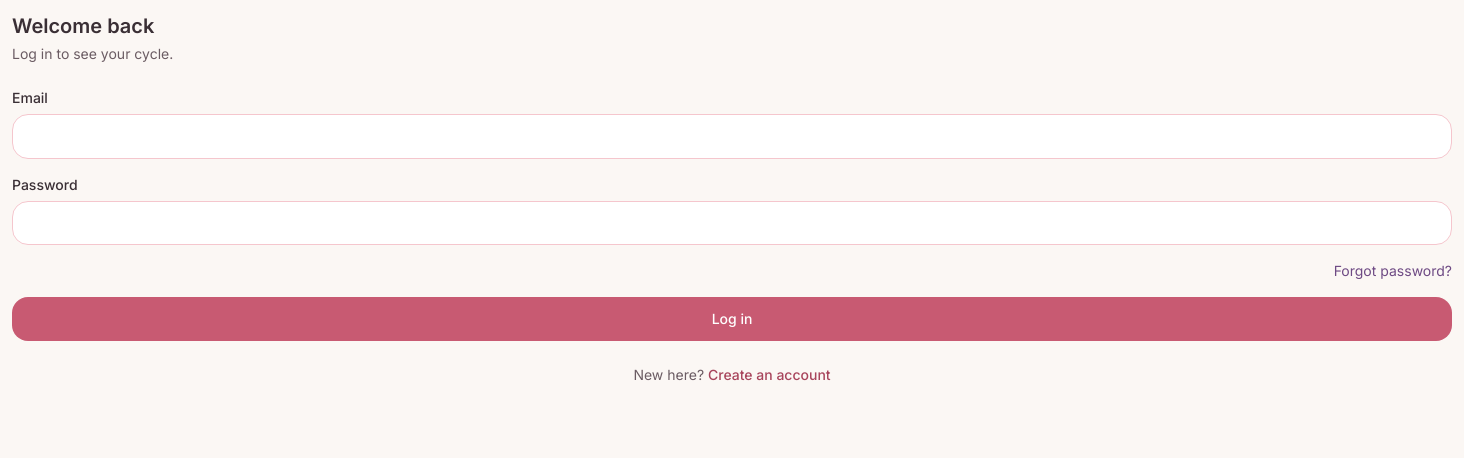
Test: LoginPage › shows a friendly error when login fails
Type "demo@example.com" into the field labelled "Email".
click(732, 136); type("demo@example.com")  # box [12,114,1452,158]
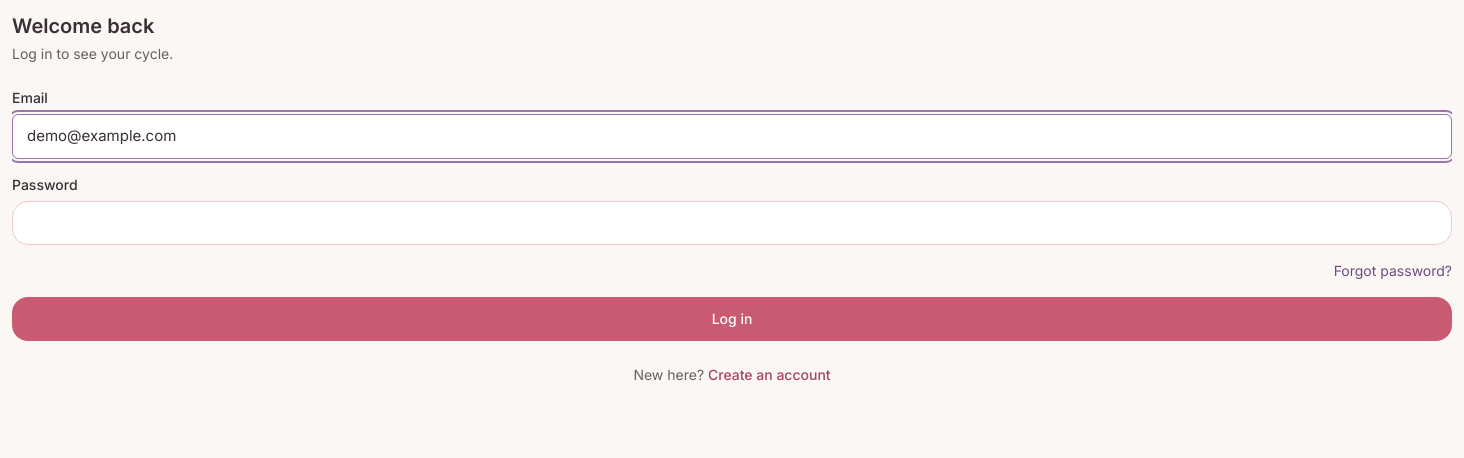
Type "wrongpass" into the password field labelled "Password".
click(732, 223); type("wrongpass")  # box [12,200,1452,245]
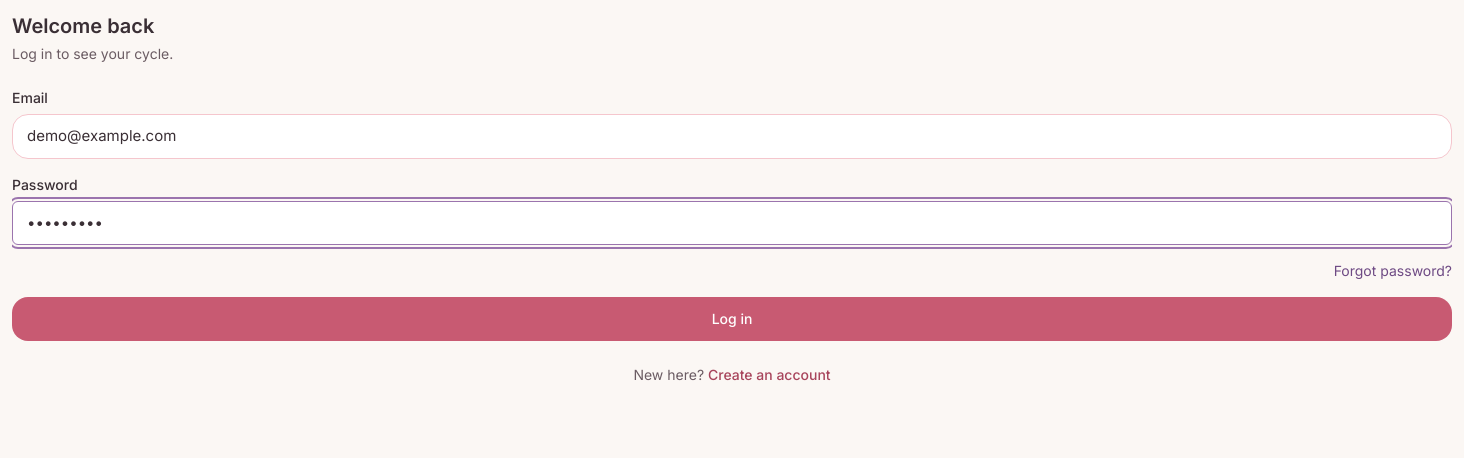
Click the button "Log in".
click(732, 319)  # box [12,297,1452,341]
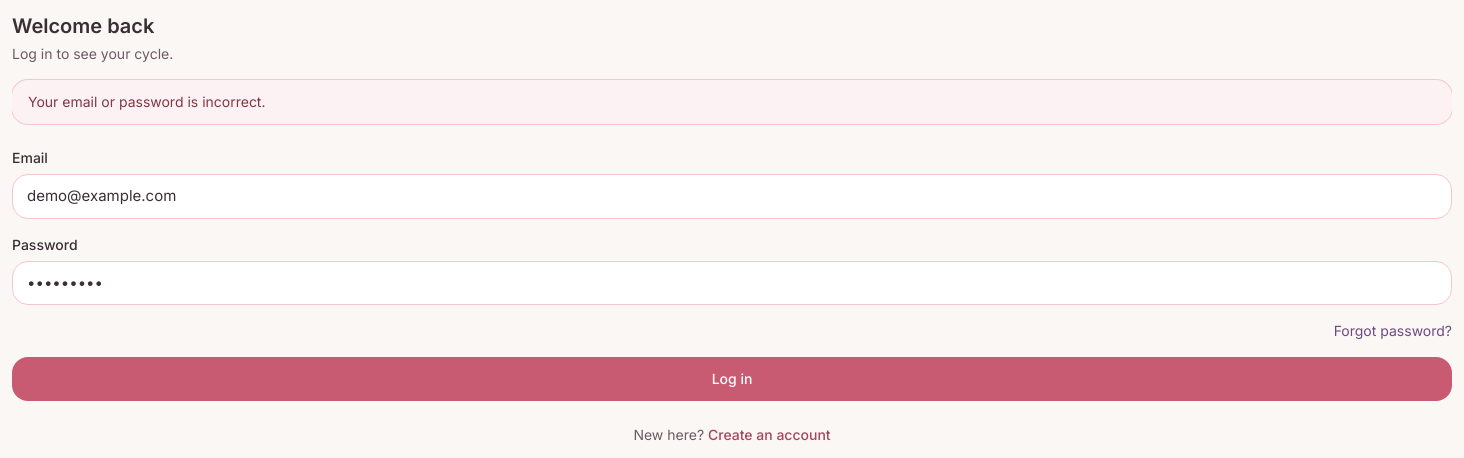
Result: the text "Your email or password is incorrect." is shown at [12,80,1452,124]
